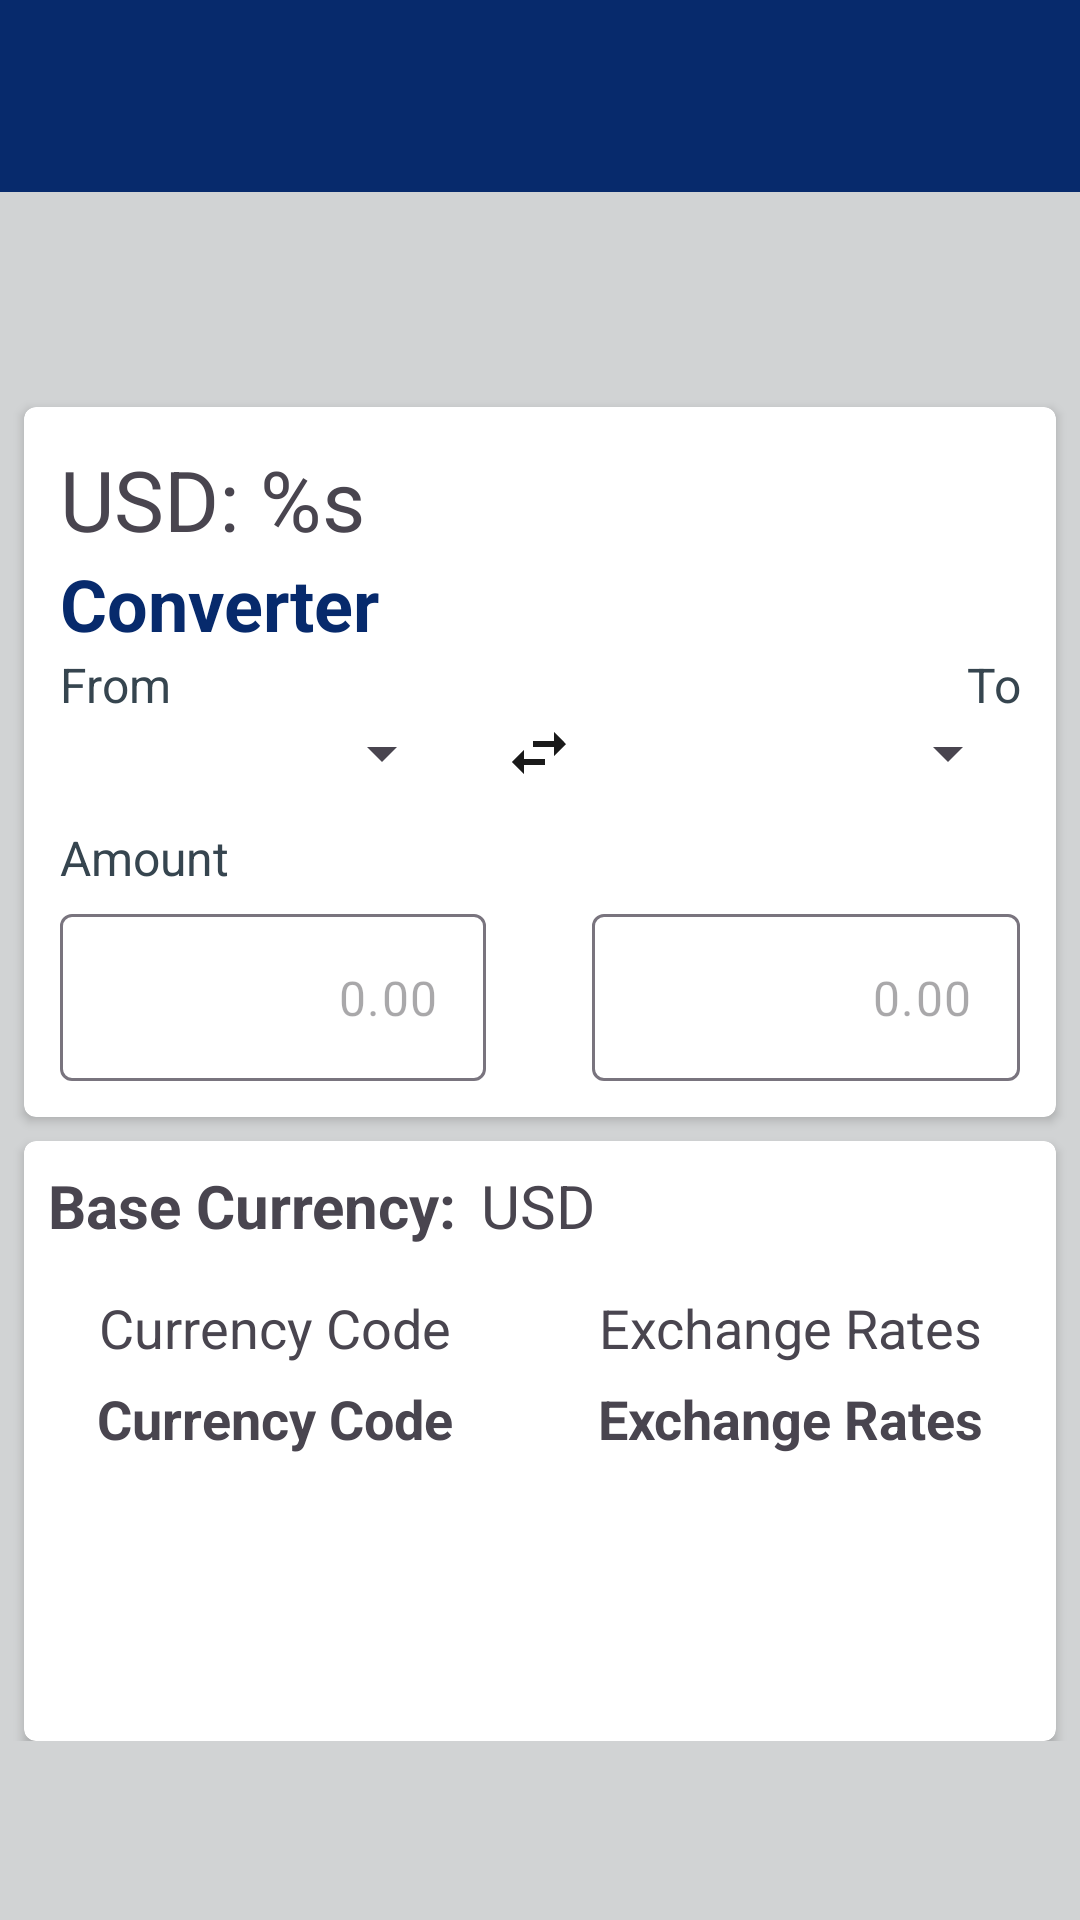

Screen size 1080 × 1920. Icon name, then its center in pixels as [x,y]:
swap: [539,753]
